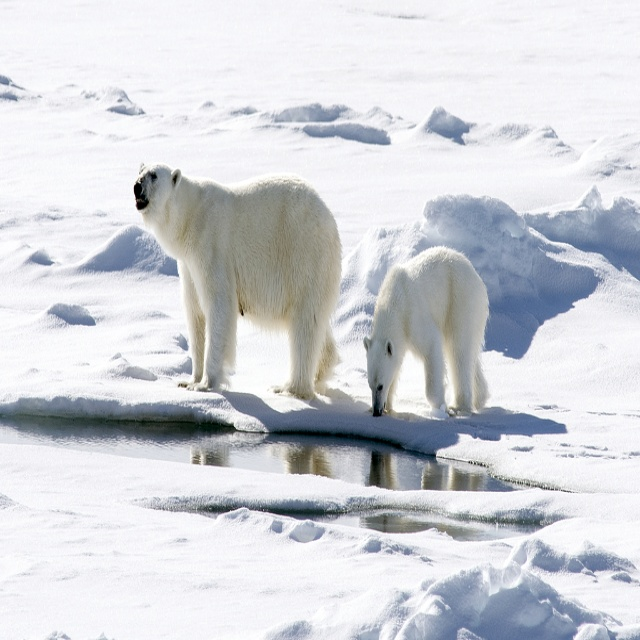Polar bear: (132, 161, 343, 397), (361, 244, 488, 415)
